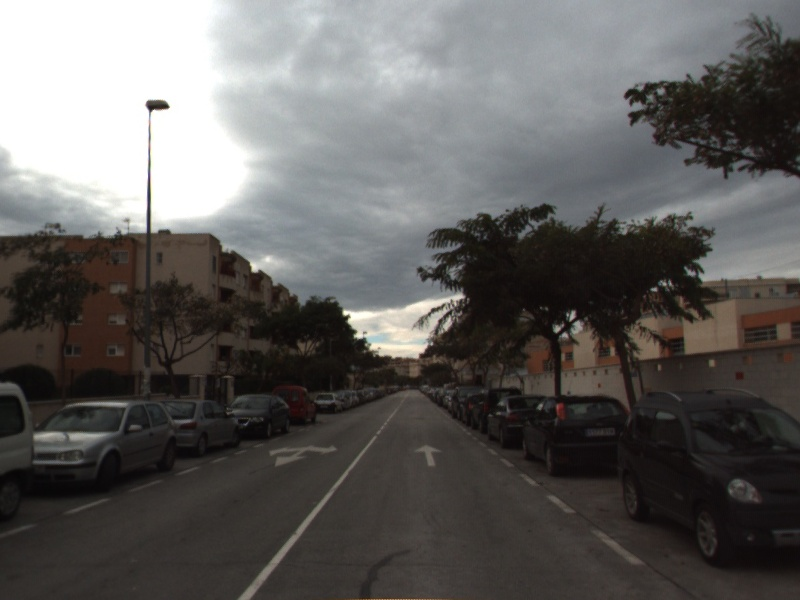STRAIGHT: (412, 442, 445, 468)
